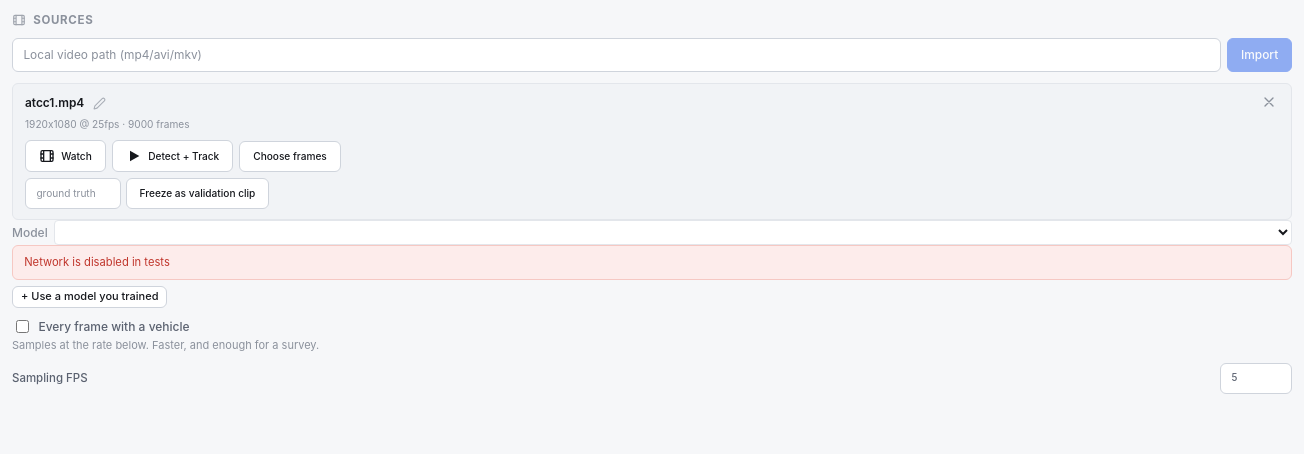
SourcePanel: choosing frames › says the work has been queued rather than pretending it is done
Click the button "Choose frames" at coordinates (290, 156), box [239,141,341,172]
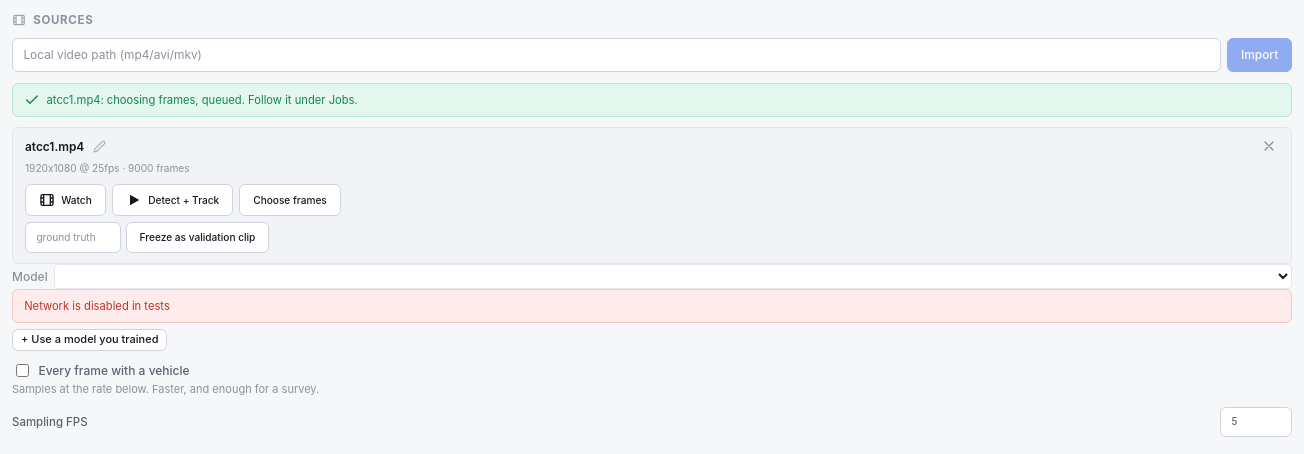
Now the text "atcc1.mp4: choosing frames, queued. Follow it under Jobs." is shown, box [12,83,1292,117]
